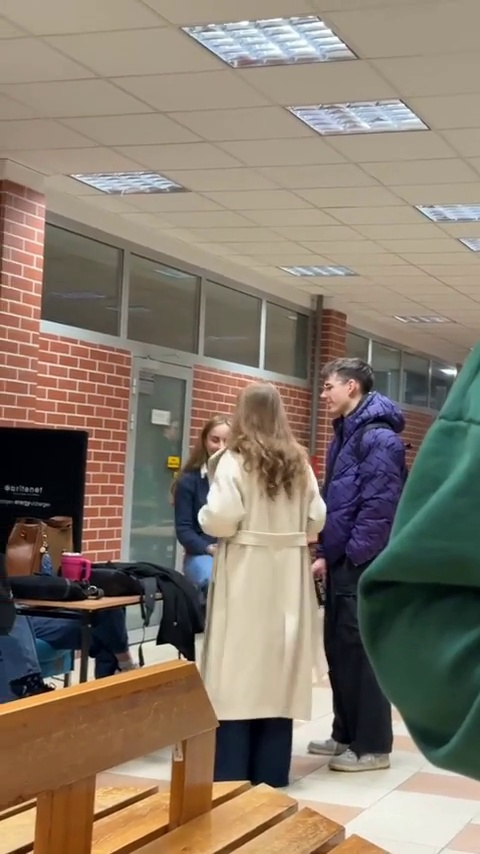no vest: (199, 380, 328, 721), (319, 356, 411, 731)
